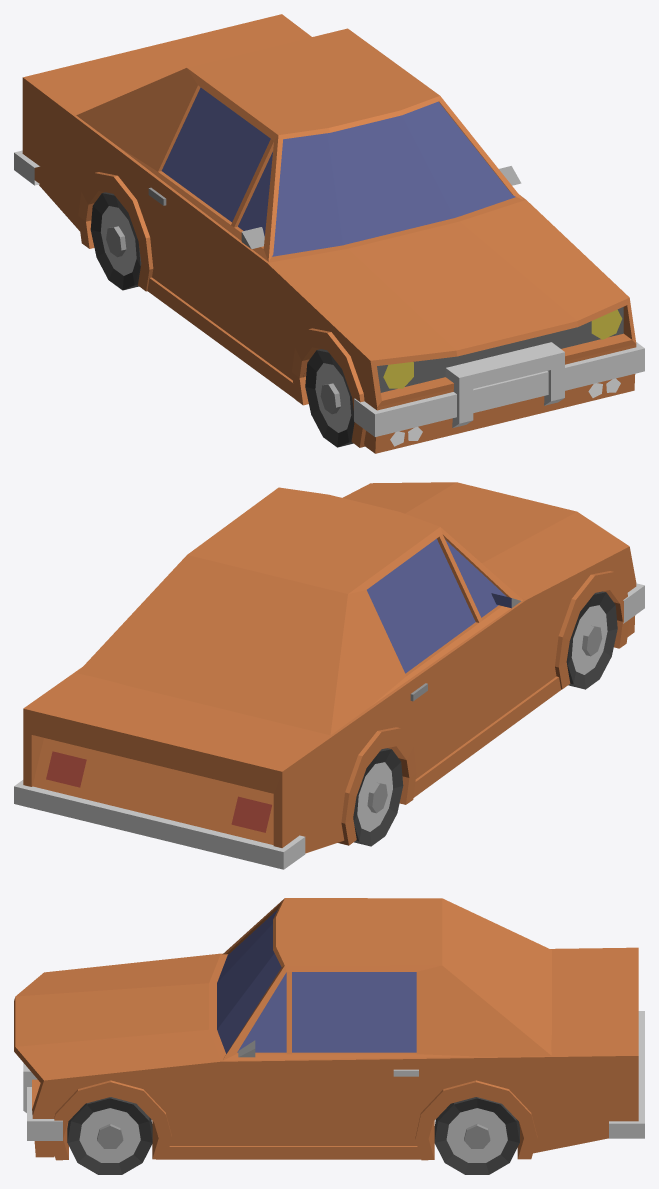
Rendered from transport_sport_009.fbx.
3 renders of one model, top to bottom at view 1: azimuth 30°, elevation 25°; view 2: azimuth 150°, elevation 25°; view 3: azimuth 270°, elevation 25°, orthographic. The views are drawn at different scales.
Parts seen in each view (by area): view 1: transport_sport_009; view 2: transport_sport_009; view 3: transport_sport_009.
Boxes of the visible parts, bbox=[...] form: transport_sport_009: bbox=[14, 14, 644, 453]; transport_sport_009: bbox=[14, 482, 644, 869]; transport_sport_009: bbox=[14, 898, 644, 1174].
Size of the model in its own units: 163 by 127 by 385.
